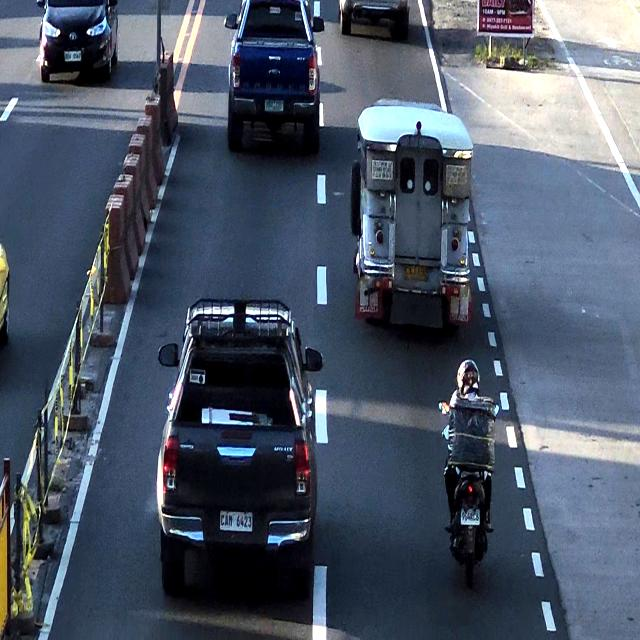Car: (164, 297, 317, 590), (224, 0, 318, 148)
Jeep: (354, 101, 470, 332)
License-Plate: (219, 509, 254, 536), (402, 265, 432, 284), (460, 510, 482, 531), (262, 96, 285, 114)
Motorcycle: (440, 356, 494, 582)
